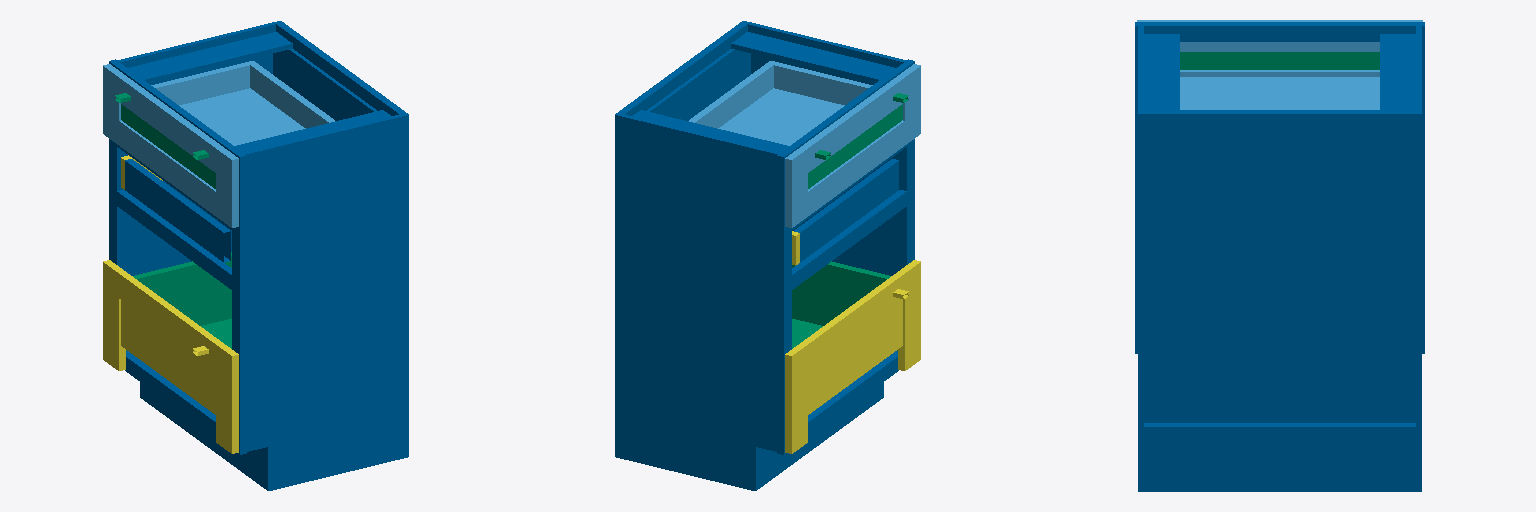
robot.urdf — partnet_1d973f05e870af4b4da5feafe6f1c8fc:
<?xml version="1.0" ?>
<robot name="partnet_1d973f05e870af4b4da5feafe6f1c8fc">
	<link name="base"/>
	<link name="link_0">
		<visual name="drawer_front-31">
			<origin xyz="0 0 0"/>
			<geometry>
				<mesh filename="textured_objs/original-26.obj"/>
			</geometry>
		</visual>
		<visual name="drawer_front-31">
			<origin xyz="0 0 0"/>
			<geometry>
				<mesh filename="textured_objs/original-38.obj"/>
			</geometry>
		</visual>
		<visual name="drawer_side-32">
			<origin xyz="0 0 0"/>
			<geometry>
				<mesh filename="textured_objs/original-25.obj"/>
			</geometry>
		</visual>
		<visual name="drawer_side-33">
			<origin xyz="0 0 0"/>
			<geometry>
				<mesh filename="textured_objs/original-30.obj"/>
			</geometry>
		</visual>
		<visual name="drawer_back-34">
			<origin xyz="0 0 0"/>
			<geometry>
				<mesh filename="textured_objs/original-31.obj"/>
			</geometry>
		</visual>
		<visual name="drawer_bottom-35">
			<origin xyz="0 0 0"/>
			<geometry>
				<mesh filename="textured_objs/original-28.obj"/>
			</geometry>
		</visual>
		<visual name="drawer_bottom-35">
			<origin xyz="0 0 0"/>
			<geometry>
				<mesh filename="textured_objs/original-29.obj"/>
			</geometry>
		</visual>
		<visual name="handle-27">
			<origin xyz="0 0 0"/>
			<geometry>
				<mesh filename="textured_objs/original-37.obj"/>
			</geometry>
		</visual>
		<visual name="handle-27">
			<origin xyz="0 0 0"/>
			<geometry>
				<mesh filename="textured_objs/original-35.obj"/>
			</geometry>
		</visual>
		<visual name="handle-27">
			<origin xyz="0 0 0"/>
			<geometry>
				<mesh filename="textured_objs/original-36.obj"/>
			</geometry>
		</visual>
		<visual name="other_leaf-30">
			<origin xyz="0 0 0"/>
			<geometry>
				<mesh filename="textured_objs/original-32.obj"/>
			</geometry>
		</visual>
		<collision>
			<origin xyz="0 0 0"/>
			<geometry>
				<mesh filename="textured_objs/original-26.obj"/>
			</geometry>
		</collision>
		<collision>
			<origin xyz="0 0 0"/>
			<geometry>
				<mesh filename="textured_objs/original-38.obj"/>
			</geometry>
		</collision>
		<collision>
			<origin xyz="0 0 0"/>
			<geometry>
				<mesh filename="textured_objs/original-25.obj"/>
			</geometry>
		</collision>
		<collision>
			<origin xyz="0 0 0"/>
			<geometry>
				<mesh filename="textured_objs/original-30.obj"/>
			</geometry>
		</collision>
		<collision>
			<origin xyz="0 0 0"/>
			<geometry>
				<mesh filename="textured_objs/original-31.obj"/>
			</geometry>
		</collision>
		<collision>
			<origin xyz="0 0 0"/>
			<geometry>
				<mesh filename="textured_objs/original-28.obj"/>
			</geometry>
		</collision>
		<collision>
			<origin xyz="0 0 0"/>
			<geometry>
				<mesh filename="textured_objs/original-29.obj"/>
			</geometry>
		</collision>
		<collision>
			<origin xyz="0 0 0"/>
			<geometry>
				<mesh filename="textured_objs/original-37.obj"/>
			</geometry>
		</collision>
		<collision>
			<origin xyz="0 0 0"/>
			<geometry>
				<mesh filename="textured_objs/original-35.obj"/>
			</geometry>
		</collision>
		<collision>
			<origin xyz="0 0 0"/>
			<geometry>
				<mesh filename="textured_objs/original-36.obj"/>
			</geometry>
		</collision>
		<collision>
			<origin xyz="0 0 0"/>
			<geometry>
				<mesh filename="textured_objs/original-32.obj"/>
			</geometry>
		</collision>
		<inertial>
			<origin xyz="0 0 0" rpy="0 0 0"/>
			<mass value="0.1"/>
			<inertia ixx="0.001" ixy="0" ixz="0" iyy="0.001" iyz="0" izz="0.001"/>
		</inertial>
	</link>
	<joint name="joint_0" type="prismatic">
		<origin xyz="0 0 0"/>
		<axis xyz="0 0 1"/>
		<child link="link_0"/>
		<parent link="link_3"/>
		<limit lower="0" upper="0.7"/>
	</joint>
	<link name="link_1">
		<visual name="drawer_front-21">
			<origin xyz="0 0 0"/>
			<geometry>
				<mesh filename="textured_objs/original-54.obj"/>
			</geometry>
		</visual>
		<visual name="drawer_front-21">
			<origin xyz="0 0 0"/>
			<geometry>
				<mesh filename="textured_objs/original-42.obj"/>
			</geometry>
		</visual>
		<visual name="drawer_side-22">
			<origin xyz="0 0 0"/>
			<geometry>
				<mesh filename="textured_objs/original-41.obj"/>
			</geometry>
		</visual>
		<visual name="drawer_side-23">
			<origin xyz="0 0 0"/>
			<geometry>
				<mesh filename="textured_objs/original-46.obj"/>
			</geometry>
		</visual>
		<visual name="drawer_back-24">
			<origin xyz="0 0 0"/>
			<geometry>
				<mesh filename="textured_objs/original-47.obj"/>
			</geometry>
		</visual>
		<visual name="drawer_bottom-25">
			<origin xyz="0 0 0"/>
			<geometry>
				<mesh filename="textured_objs/original-45.obj"/>
			</geometry>
		</visual>
		<visual name="drawer_bottom-25">
			<origin xyz="0 0 0"/>
			<geometry>
				<mesh filename="textured_objs/original-44.obj"/>
			</geometry>
		</visual>
		<visual name="handle-18">
			<origin xyz="0 0 0"/>
			<geometry>
				<mesh filename="textured_objs/original-53.obj"/>
			</geometry>
		</visual>
		<visual name="handle-18">
			<origin xyz="0 0 0"/>
			<geometry>
				<mesh filename="textured_objs/original-51.obj"/>
			</geometry>
		</visual>
		<visual name="handle-18">
			<origin xyz="0 0 0"/>
			<geometry>
				<mesh filename="textured_objs/original-52.obj"/>
			</geometry>
		</visual>
		<visual name="other_leaf-20">
			<origin xyz="0 0 0"/>
			<geometry>
				<mesh filename="textured_objs/original-48.obj"/>
			</geometry>
		</visual>
		<collision>
			<origin xyz="0 0 0"/>
			<geometry>
				<mesh filename="textured_objs/original-54.obj"/>
			</geometry>
		</collision>
		<collision>
			<origin xyz="0 0 0"/>
			<geometry>
				<mesh filename="textured_objs/original-42.obj"/>
			</geometry>
		</collision>
		<collision>
			<origin xyz="0 0 0"/>
			<geometry>
				<mesh filename="textured_objs/original-41.obj"/>
			</geometry>
		</collision>
		<collision>
			<origin xyz="0 0 0"/>
			<geometry>
				<mesh filename="textured_objs/original-46.obj"/>
			</geometry>
		</collision>
		<collision>
			<origin xyz="0 0 0"/>
			<geometry>
				<mesh filename="textured_objs/original-47.obj"/>
			</geometry>
		</collision>
		<collision>
			<origin xyz="0 0 0"/>
			<geometry>
				<mesh filename="textured_objs/original-45.obj"/>
			</geometry>
		</collision>
		<collision>
			<origin xyz="0 0 0"/>
			<geometry>
				<mesh filename="textured_objs/original-44.obj"/>
			</geometry>
		</collision>
		<collision>
			<origin xyz="0 0 0"/>
			<geometry>
				<mesh filename="textured_objs/original-53.obj"/>
			</geometry>
		</collision>
		<collision>
			<origin xyz="0 0 0"/>
			<geometry>
				<mesh filename="textured_objs/original-51.obj"/>
			</geometry>
		</collision>
		<collision>
			<origin xyz="0 0 0"/>
			<geometry>
				<mesh filename="textured_objs/original-52.obj"/>
			</geometry>
		</collision>
		<collision>
			<origin xyz="0 0 0"/>
			<geometry>
				<mesh filename="textured_objs/original-48.obj"/>
			</geometry>
		</collision>
		<inertial>
			<origin xyz="0 0 0" rpy="0 0 0"/>
			<mass value="0.1"/>
			<inertia ixx="0.001" ixy="0" ixz="0" iyy="0.001" iyz="0" izz="0.001"/>
		</inertial>
	</link>
	<joint name="joint_1" type="prismatic">
		<origin xyz="0 0 0"/>
		<axis xyz="0 0 1"/>
		<child link="link_1"/>
		<parent link="link_3"/>
		<limit lower="0" upper="0.7"/>
	</joint>
	<link name="link_2">
		<visual name="drawer_side-10">
			<origin xyz="0 0 0"/>
			<geometry>
				<mesh filename="textured_objs/original-57.obj"/>
			</geometry>
		</visual>
		<visual name="drawer_side-11">
			<origin xyz="0 0 0"/>
			<geometry>
				<mesh filename="textured_objs/original-62.obj"/>
			</geometry>
		</visual>
		<visual name="drawer_back-12">
			<origin xyz="0 0 0"/>
			<geometry>
				<mesh filename="textured_objs/original-63.obj"/>
			</geometry>
		</visual>
		<visual name="drawer_bottom-13">
			<origin xyz="0 0 0"/>
			<geometry>
				<mesh filename="textured_objs/original-61.obj"/>
			</geometry>
		</visual>
		<visual name="drawer_bottom-13">
			<origin xyz="0 0 0"/>
			<geometry>
				<mesh filename="textured_objs/original-60.obj"/>
			</geometry>
		</visual>
		<visual name="drawer_front-14">
			<origin xyz="0 0 0"/>
			<geometry>
				<mesh filename="textured_objs/original-70.obj"/>
			</geometry>
		</visual>
		<visual name="drawer_front-14">
			<origin xyz="0 0 0"/>
			<geometry>
				<mesh filename="textured_objs/original-58.obj"/>
			</geometry>
		</visual>
		<visual name="other_leaf-16">
			<origin xyz="0 0 0"/>
			<geometry>
				<mesh filename="textured_objs/original-64.obj"/>
			</geometry>
		</visual>
		<visual name="handle-8">
			<origin xyz="0 0 0"/>
			<geometry>
				<mesh filename="textured_objs/original-69.obj"/>
			</geometry>
		</visual>
		<visual name="handle-8">
			<origin xyz="0 0 0"/>
			<geometry>
				<mesh filename="textured_objs/original-67.obj"/>
			</geometry>
		</visual>
		<visual name="handle-8">
			<origin xyz="0 0 0"/>
			<geometry>
				<mesh filename="textured_objs/original-68.obj"/>
			</geometry>
		</visual>
		<collision>
			<origin xyz="0 0 0"/>
			<geometry>
				<mesh filename="textured_objs/original-57.obj"/>
			</geometry>
		</collision>
		<collision>
			<origin xyz="0 0 0"/>
			<geometry>
				<mesh filename="textured_objs/original-62.obj"/>
			</geometry>
		</collision>
		<collision>
			<origin xyz="0 0 0"/>
			<geometry>
				<mesh filename="textured_objs/original-63.obj"/>
			</geometry>
		</collision>
		<collision>
			<origin xyz="0 0 0"/>
			<geometry>
				<mesh filename="textured_objs/original-61.obj"/>
			</geometry>
		</collision>
		<collision>
			<origin xyz="0 0 0"/>
			<geometry>
				<mesh filename="textured_objs/original-60.obj"/>
			</geometry>
		</collision>
		<collision>
			<origin xyz="0 0 0"/>
			<geometry>
				<mesh filename="textured_objs/original-70.obj"/>
			</geometry>
		</collision>
		<collision>
			<origin xyz="0 0 0"/>
			<geometry>
				<mesh filename="textured_objs/original-58.obj"/>
			</geometry>
		</collision>
		<collision>
			<origin xyz="0 0 0"/>
			<geometry>
				<mesh filename="textured_objs/original-64.obj"/>
			</geometry>
		</collision>
		<collision>
			<origin xyz="0 0 0"/>
			<geometry>
				<mesh filename="textured_objs/original-69.obj"/>
			</geometry>
		</collision>
		<collision>
			<origin xyz="0 0 0"/>
			<geometry>
				<mesh filename="textured_objs/original-67.obj"/>
			</geometry>
		</collision>
		<collision>
			<origin xyz="0 0 0"/>
			<geometry>
				<mesh filename="textured_objs/original-68.obj"/>
			</geometry>
		</collision>
		<inertial>
			<origin xyz="0 0 0" rpy="0 0 0"/>
			<mass value="0.1"/>
			<inertia ixx="0.001" ixy="0" ixz="0" iyy="0.001" iyz="0" izz="0.001"/>
		</inertial>
	</link>
	<joint name="joint_2" type="prismatic">
		<origin xyz="0 0 0"/>
		<axis xyz="0 0 1"/>
		<child link="link_2"/>
		<parent link="link_3"/>
		<limit lower="0" upper="0.7"/>
	</joint>
	<link name="link_3">
		<visual name="vertical_side_panel-41">
			<origin xyz="0 0 0"/>
			<geometry>
				<mesh filename="textured_objs/original-15.obj"/>
			</geometry>
		</visual>
		<visual name="vertical_side_panel-41">
			<origin xyz="0 0 0"/>
			<geometry>
				<mesh filename="textured_objs/original-14.obj"/>
			</geometry>
		</visual>
		<visual name="vertical_side_panel-42">
			<origin xyz="0 0 0"/>
			<geometry>
				<mesh filename="textured_objs/original-11.obj"/>
			</geometry>
		</visual>
		<visual name="vertical_side_panel-42">
			<origin xyz="0 0 0"/>
			<geometry>
				<mesh filename="textured_objs/original-10.obj"/>
			</geometry>
		</visual>
		<visual name="back_panel-43">
			<origin xyz="0 0 0"/>
			<geometry>
				<mesh filename="textured_objs/original-5.obj"/>
			</geometry>
		</visual>
		<visual name="bottom_panel-44">
			<origin xyz="0 0 0"/>
			<geometry>
				<mesh filename="textured_objs/original-2.obj"/>
			</geometry>
		</visual>
		<visual name="frame_vertical_bar-45">
			<origin xyz="0 0 0"/>
			<geometry>
				<mesh filename="textured_objs/original-3.obj"/>
			</geometry>
		</visual>
		<visual name="frame_vertical_bar-46">
			<origin xyz="0 0 0"/>
			<geometry>
				<mesh filename="textured_objs/original-7.obj"/>
			</geometry>
		</visual>
		<visual name="frame_horizontal_bar-47">
			<origin xyz="0 0 0"/>
			<geometry>
				<mesh filename="textured_objs/original-4.obj"/>
			</geometry>
		</visual>
		<visual name="frame_horizontal_bar-48">
			<origin xyz="0 0 0"/>
			<geometry>
				<mesh filename="textured_objs/original-6.obj"/>
			</geometry>
		</visual>
		<visual name="frame_horizontal_bar-49">
			<origin xyz="0 0 0"/>
			<geometry>
				<mesh filename="textured_objs/original-8.obj"/>
			</geometry>
		</visual>
		<visual name="frame_horizontal_bar-50">
			<origin xyz="0 0 0"/>
			<geometry>
				<mesh filename="textured_objs/original-22.obj"/>
			</geometry>
		</visual>
		<visual name="frame_horizontal_bar-51">
			<origin xyz="0 0 0"/>
			<geometry>
				<mesh filename="textured_objs/original-17.obj"/>
			</geometry>
		</visual>
		<visual name="frame_horizontal_bar-52">
			<origin xyz="0 0 0"/>
			<geometry>
				<mesh filename="textured_objs/original-21.obj"/>
			</geometry>
		</visual>
		<visual name="frame_horizontal_bar-53">
			<origin xyz="0 0 0"/>
			<geometry>
				<mesh filename="textured_objs/original-20.obj"/>
			</geometry>
		</visual>
		<visual name="other_leaf-56">
			<origin xyz="0 0 0"/>
			<geometry>
				<mesh filename="textured_objs/original-71.obj"/>
			</geometry>
		</visual>
		<visual name="base_side_panel-37">
			<origin xyz="0 0 0"/>
			<geometry>
				<mesh filename="textured_objs/original-16.obj"/>
			</geometry>
		</visual>
		<visual name="base_side_panel-38">
			<origin xyz="0 0 0"/>
			<geometry>
				<mesh filename="textured_objs/original-18.obj"/>
			</geometry>
		</visual>
		<visual name="base_side_panel-39">
			<origin xyz="0 0 0"/>
			<geometry>
				<mesh filename="textured_objs/original-12.obj"/>
			</geometry>
		</visual>
		<visual name="base_side_panel-40">
			<origin xyz="0 0 0"/>
			<geometry>
				<mesh filename="textured_objs/original-19.obj"/>
			</geometry>
		</visual>
		<collision>
			<origin xyz="0 0 0"/>
			<geometry>
				<mesh filename="textured_objs/original-15.obj"/>
			</geometry>
		</collision>
		<collision>
			<origin xyz="0 0 0"/>
			<geometry>
				<mesh filename="textured_objs/original-14.obj"/>
			</geometry>
		</collision>
		<collision>
			<origin xyz="0 0 0"/>
			<geometry>
				<mesh filename="textured_objs/original-11.obj"/>
			</geometry>
		</collision>
		<collision>
			<origin xyz="0 0 0"/>
			<geometry>
				<mesh filename="textured_objs/original-10.obj"/>
			</geometry>
		</collision>
		<collision>
			<origin xyz="0 0 0"/>
			<geometry>
				<mesh filename="textured_objs/original-5.obj"/>
			</geometry>
		</collision>
		<collision>
			<origin xyz="0 0 0"/>
			<geometry>
				<mesh filename="textured_objs/original-2.obj"/>
			</geometry>
		</collision>
		<collision>
			<origin xyz="0 0 0"/>
			<geometry>
				<mesh filename="textured_objs/original-3.obj"/>
			</geometry>
		</collision>
		<collision>
			<origin xyz="0 0 0"/>
			<geometry>
				<mesh filename="textured_objs/original-7.obj"/>
			</geometry>
		</collision>
		<collision>
			<origin xyz="0 0 0"/>
			<geometry>
				<mesh filename="textured_objs/original-4.obj"/>
			</geometry>
		</collision>
		<collision>
			<origin xyz="0 0 0"/>
			<geometry>
				<mesh filename="textured_objs/original-6.obj"/>
			</geometry>
		</collision>
		<collision>
			<origin xyz="0 0 0"/>
			<geometry>
				<mesh filename="textured_objs/original-8.obj"/>
			</geometry>
		</collision>
		<collision>
			<origin xyz="0 0 0"/>
			<geometry>
				<mesh filename="textured_objs/original-22.obj"/>
			</geometry>
		</collision>
		<collision>
			<origin xyz="0 0 0"/>
			<geometry>
				<mesh filename="textured_objs/original-17.obj"/>
			</geometry>
		</collision>
		<collision>
			<origin xyz="0 0 0"/>
			<geometry>
				<mesh filename="textured_objs/original-21.obj"/>
			</geometry>
		</collision>
		<collision>
			<origin xyz="0 0 0"/>
			<geometry>
				<mesh filename="textured_objs/original-20.obj"/>
			</geometry>
		</collision>
		<collision>
			<origin xyz="0 0 0"/>
			<geometry>
				<mesh filename="textured_objs/original-71.obj"/>
			</geometry>
		</collision>
		<collision>
			<origin xyz="0 0 0"/>
			<geometry>
				<mesh filename="textured_objs/original-16.obj"/>
			</geometry>
		</collision>
		<collision>
			<origin xyz="0 0 0"/>
			<geometry>
				<mesh filename="textured_objs/original-18.obj"/>
			</geometry>
		</collision>
		<collision>
			<origin xyz="0 0 0"/>
			<geometry>
				<mesh filename="textured_objs/original-12.obj"/>
			</geometry>
		</collision>
		<collision>
			<origin xyz="0 0 0"/>
			<geometry>
				<mesh filename="textured_objs/original-19.obj"/>
			</geometry>
		</collision>
		<inertial>
			<origin xyz="0 0 0" rpy="0 0 0"/>
			<mass value="0.5"/>
			<inertia ixx="0.01" ixy="0" ixz="0" iyy="0.01" iyz="0" izz="0.01"/>
		</inertial>
	</link>
	<joint name="joint_3" type="fixed">
		<origin rpy="1.570796326794897 0 -1.570796326794897" xyz="0 0 0"/>
		<child link="link_3"/>
		<parent link="base"/>
	</joint>
</robot>

--- What the picture shows (computed from the rendered views, not written in the file) ---
Views: 3 orthographic renders of the robot side by side, from view 1: azimuth 30°, elevation 25°; view 2: azimuth 150°, elevation 25°; view 3: azimuth 270°, elevation 25°.
Model partnet_1d973f05e870af4b4da5feafe6f1c8fc with 5 links and 4 joints (3 prismatic, 1 fixed), rooted at base, posed every joint at zero.
Links seen in each view (by area): view 1: link_3, link_0, link_2, link_1; view 2: link_3, link_0, link_2, link_1; view 3: link_3, link_0, link_1.
Boxes of the visible links, x1=… form: link_3: x1=109, y1=21, x2=408, y2=490; link_0: x1=103, y1=61, x2=334, y2=227; link_2: x1=103, y1=155, x2=238, y2=453; link_1: x1=115, y1=93, x2=231, y2=350; link_3: x1=615, y1=21, x2=914, y2=490; link_0: x1=689, y1=61, x2=920, y2=227; link_2: x1=785, y1=231, x2=920, y2=453; link_1: x1=792, y1=93, x2=908, y2=350; link_3: x1=1135, y1=22, x2=1424, y2=491; link_0: x1=1137, y1=20, x2=1422, y2=109; link_1: x1=1180, y1=52, x2=1379, y2=69.
Bounding box of the posed robot: 0.8381 × 1.01 × 1.45 m (x, y, z).
Meshes: 53 distinct files referenced, 44 mesh visuals loaded (44 OBJ); not drawn: 9 (reference not matched to a file when rendering).